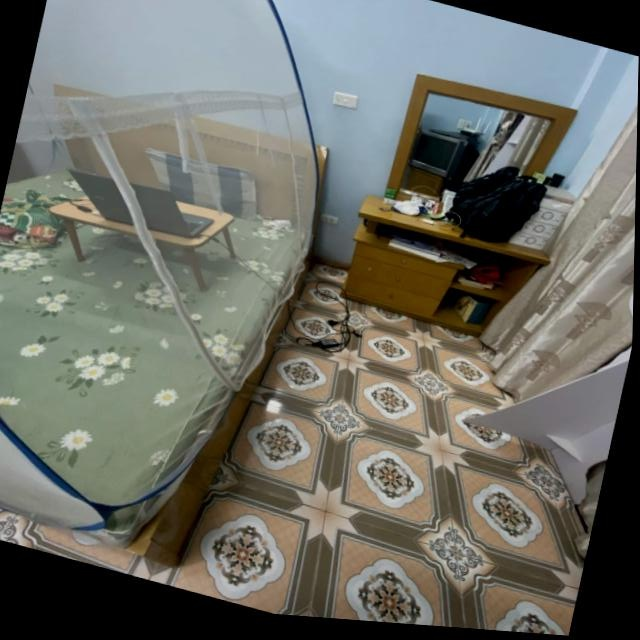outlet: (320, 212, 340, 227)
